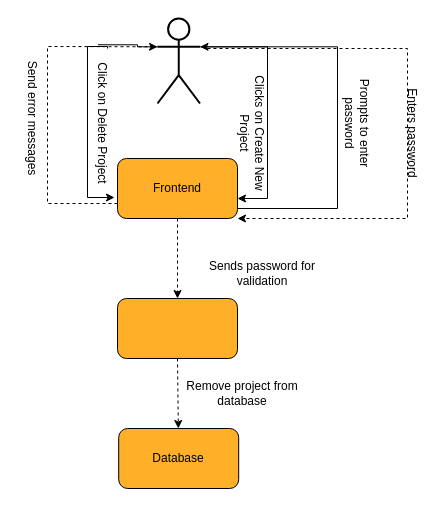
The diagram is 444 pixels wide and 506 high, and some of its shapes have lost their labels. Each missing label, with the centre of its shape:
Manager: (178,60)
REST API: (177,328)
